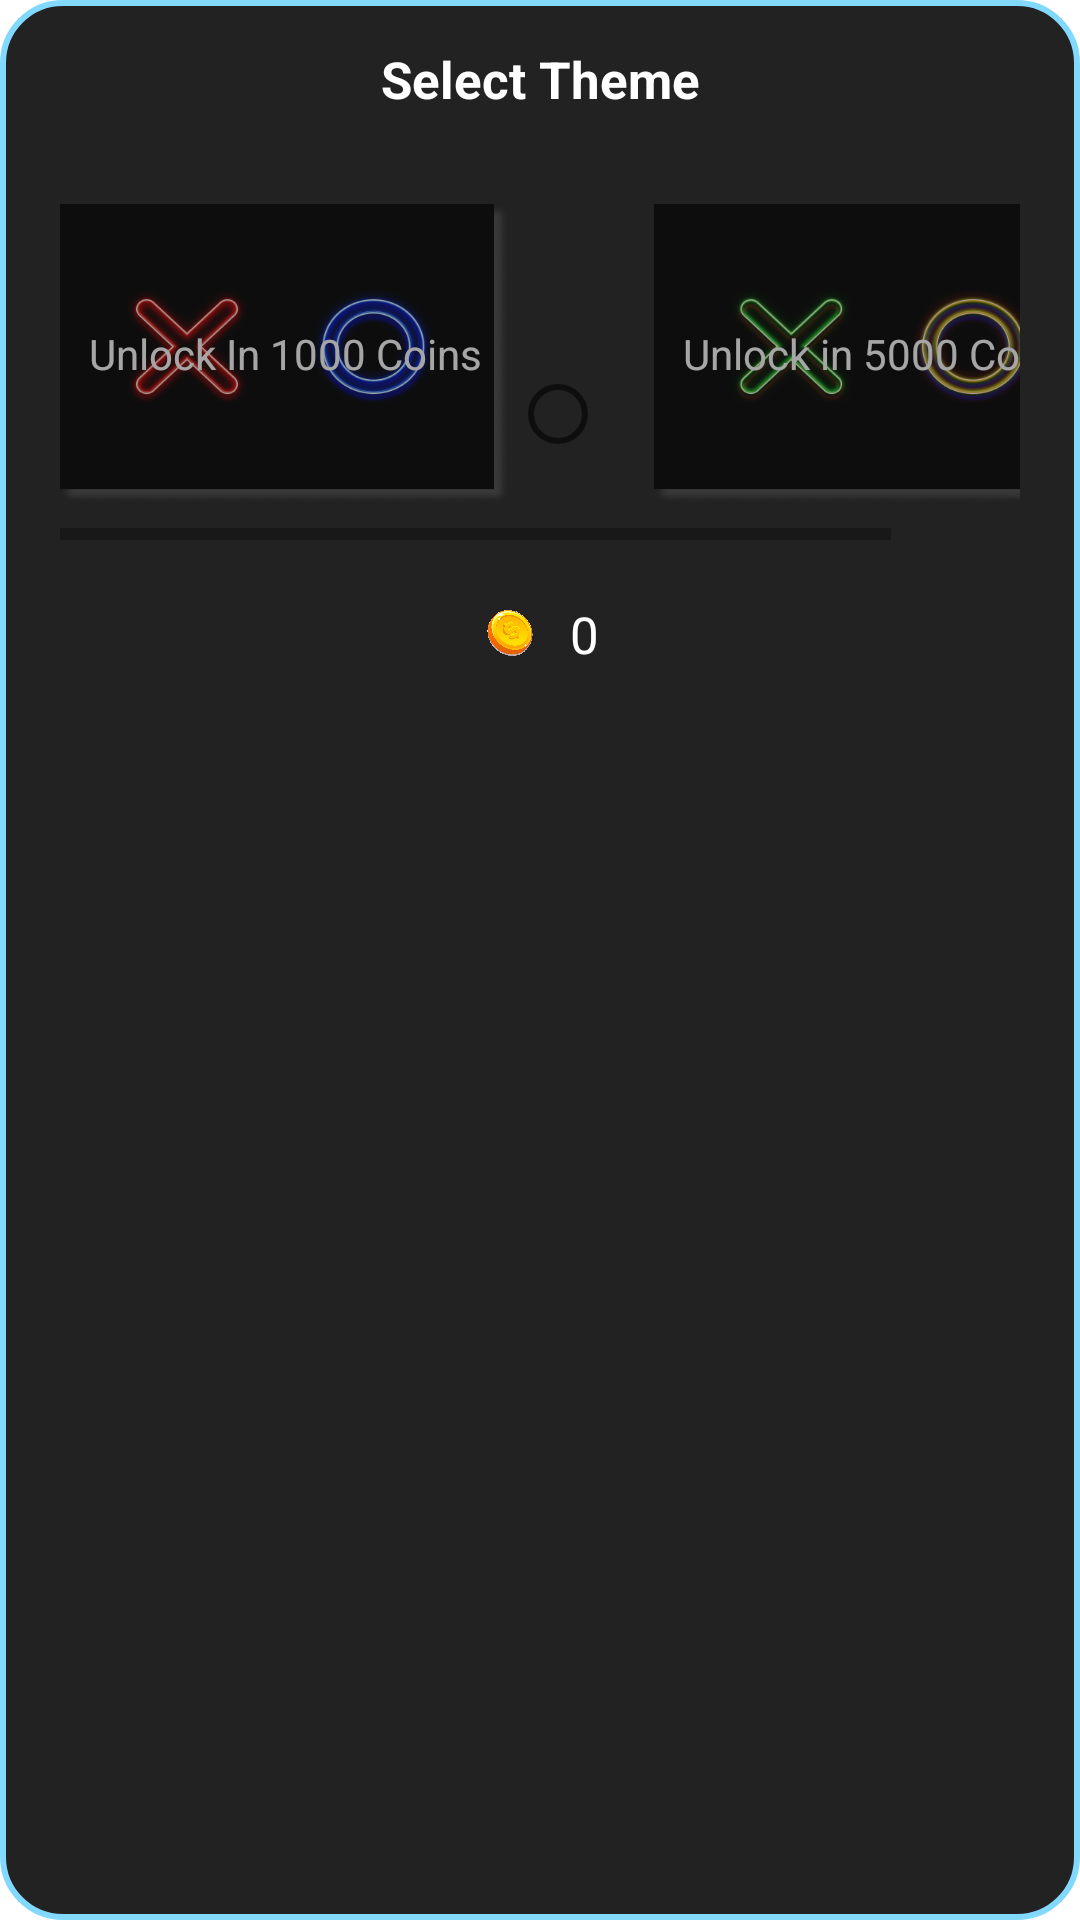

Icon click points for this 1080 × 1920 phone screenshot, format [x,y]:
coincoinhh: [510,633]
